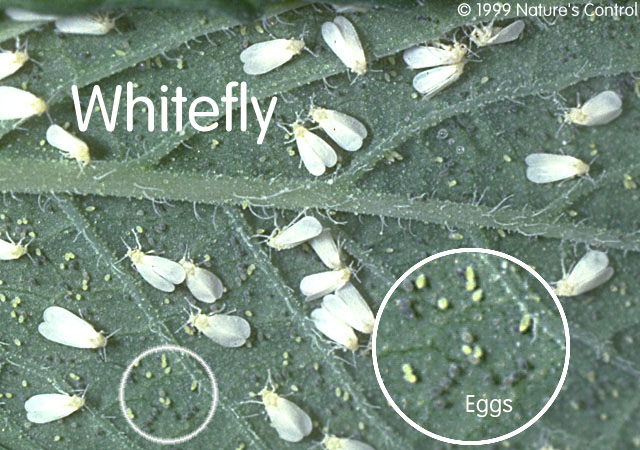whitefly: (238, 372, 313, 441), (110, 226, 186, 293), (39, 304, 119, 362), (321, 14, 382, 87), (277, 112, 338, 177), (178, 299, 251, 349), (303, 99, 369, 152), (324, 274, 376, 337), (310, 305, 366, 362), (554, 249, 613, 299), (241, 31, 309, 74), (555, 92, 623, 135), (26, 383, 95, 424), (172, 252, 223, 304), (44, 124, 92, 175), (524, 152, 598, 185), (412, 61, 473, 96), (263, 216, 321, 252), (464, 17, 525, 48), (299, 269, 353, 304), (402, 44, 465, 71)
